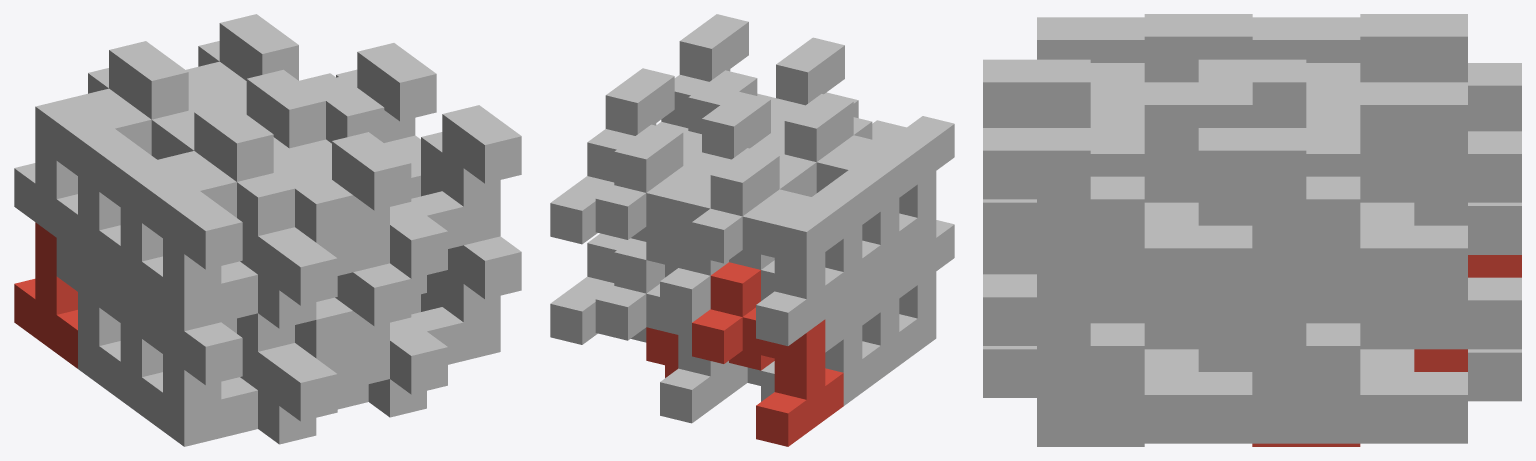
Rendered from tiling.obj.
3 views of the same model, side by side, from view 1: azimuth 30°, elevation 25°; view 2: azimuth 150°, elevation 25°; view 3: azimuth 270°, elevation 25° (orthographic). The views are drawn at different scales.
Parts seen in each view (by area): view 1: copy_3_domain_8, copy_2_domain_4, copy_3_domain_4, copy_2_domain_2, copy_3_domain_6, copy_3_domain_2, copy_1_domain_4, copy_1_domain_3, copy_4_domain_4, copy_2_domain_3, copy_4_domain_3, copy_3_domain_7 (+12 smaller); view 2: copy_1_domain_3, copy_1_domain_1, copy_1_domain_7, copy_1_domain_5, copy_1_domain_4, copy_4_domain_7, copy_2_domain_3, copy_4_domain_3, copy_2_domain_4, copy_3_domain_7, copy_4_domain_5, copy_3_domain_8 (+10 smaller); view 3: copy_4_domain_7, copy_4_domain_8, copy_3_domain_8, copy_3_domain_6, copy_3_domain_7, copy_4_domain_5, copy_4_domain_6, copy_3_domain_5, copy_4_domain_3, copy_1_domain_5, copy_1_domain_7, copy_3_domain_4 (+10 smaller).
Boxes of the visible parts, x1,y1,x2,y2 form: copy_3_domain_8: (390,105,521,278); copy_2_domain_4: (142,175,316,331); copy_3_domain_4: (240,132,411,305); copy_2_domain_2: (142,300,316,446); copy_3_domain_6: (390,236,521,394); copy_3_domain_2: (240,263,411,421); copy_1_domain_4: (99,130,236,315); copy_1_domain_3: (14,68,151,252); copy_4_domain_4: (194,103,294,235); copy_2_domain_3: (56,113,156,268); copy_4_domain_3: (109,41,194,159); copy_3_domain_7: (336,43,436,142); copy_1_domain_3: (692,189,843,345); copy_1_domain_1: (692,307,843,446); copy_1_domain_7: (595,166,728,322); copy_1_domain_5: (595,284,747,423); copy_1_domain_4: (779,135,917,291); copy_4_domain_7: (550,124,701,244); copy_2_domain_3: (761,170,880,305); copy_4_domain_3: (646,148,797,269); copy_2_domain_4: (867,116,954,250); copy_3_domain_7: (587,68,674,182); copy_4_domain_5: (550,239,664,344); copy_3_domain_8: (661,14,748,128); copy_4_domain_7: (1306,82,1467,297); copy_4_domain_8: (1090,82,1252,297); copy_3_domain_8: (983,128,1144,297); copy_3_domain_6: (983,274,1144,443); copy_3_domain_7: (1198,128,1360,297); copy_4_domain_5: (1306,297,1467,443); copy_4_domain_6: (1090,297,1252,443); copy_3_domain_5: (1198,297,1360,443); copy_4_domain_3: (1306,14,1467,225); copy_1_domain_5: (1414,277,1521,401); copy_1_domain_7: (1414,131,1521,254); copy_3_domain_4: (983,59,1144,131).
Bounding box in the file's own units: 8 × 7 × 10.
